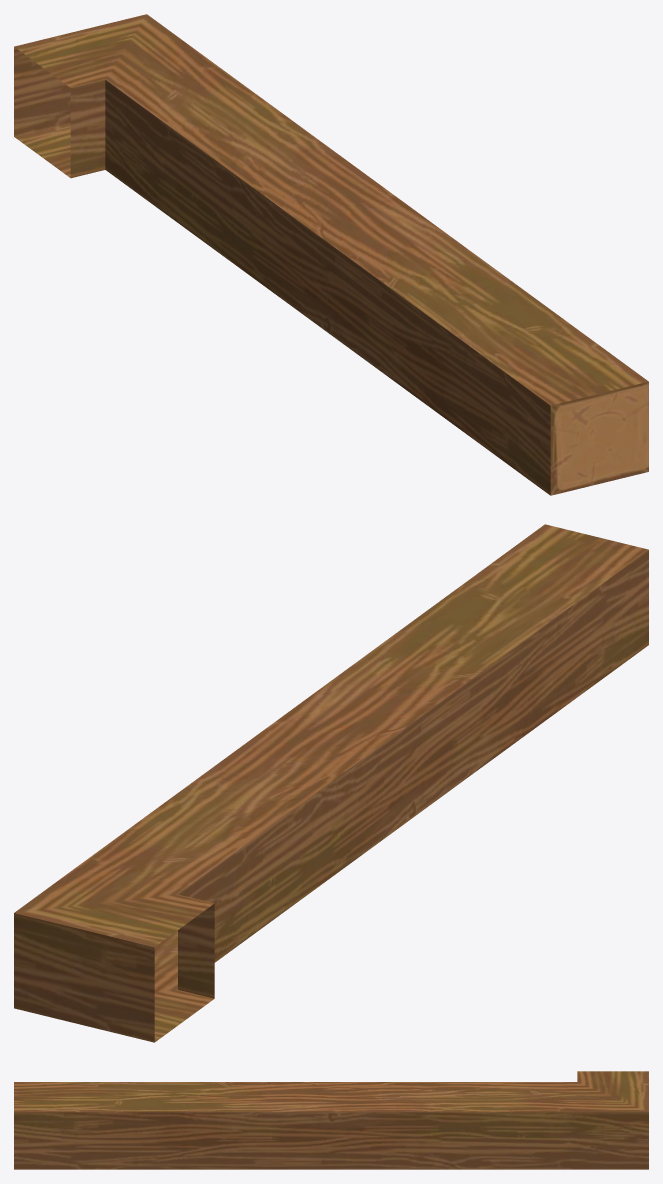
File: holecover_90stairs.glb
3 renders of one model, top to bottom at view 1: azimuth 30°, elevation 25°; view 2: azimuth 150°, elevation 25°; view 3: azimuth 270°, elevation 25°, orthographic. The views are drawn at different scales.
Size of the model in its own units: 0.3241 by 0.2101 by 2.12.
1 material, 1 textured.
